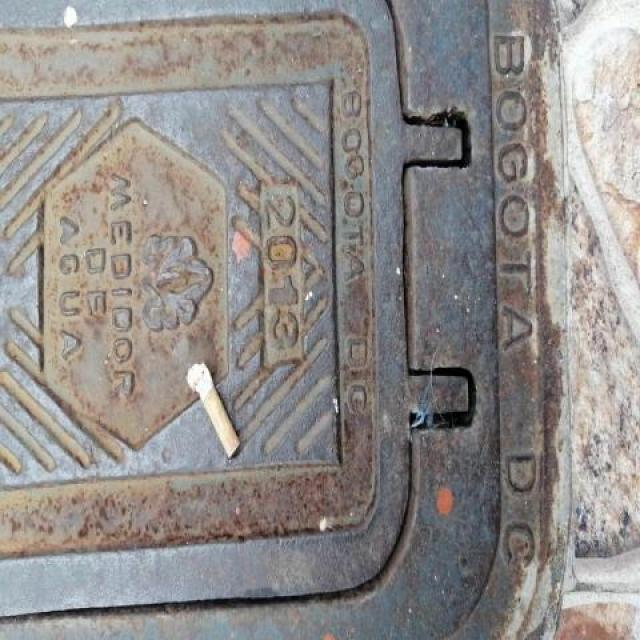non-organic waste: (184, 358, 244, 463)
